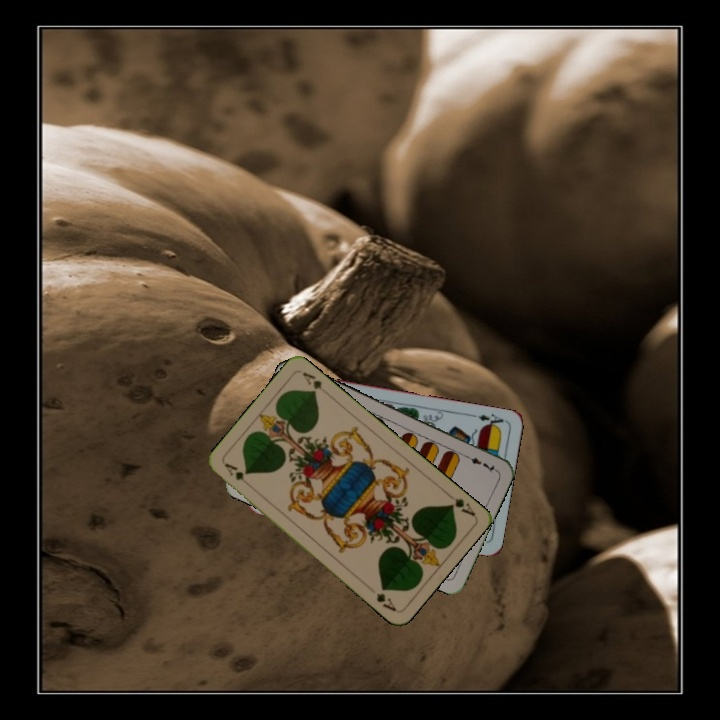E7: (460, 450, 499, 475)
EA: (474, 409, 508, 431)
GA: (221, 459, 255, 490), (442, 489, 478, 518)
